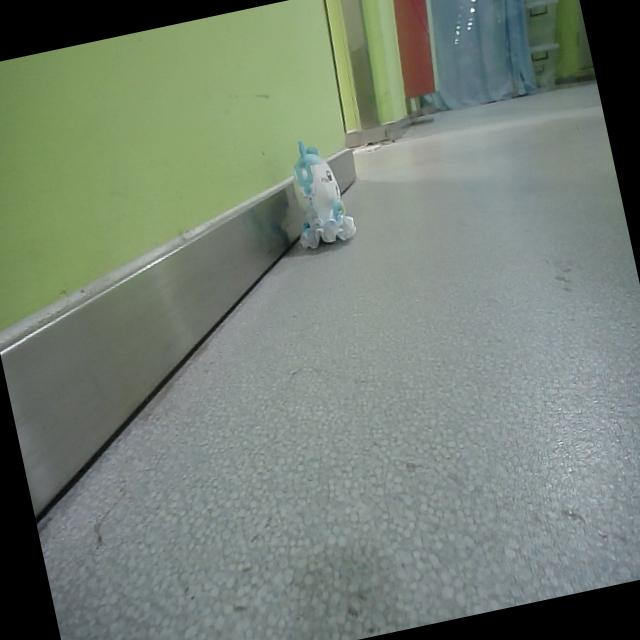xiaoba: (280, 129, 360, 257)
